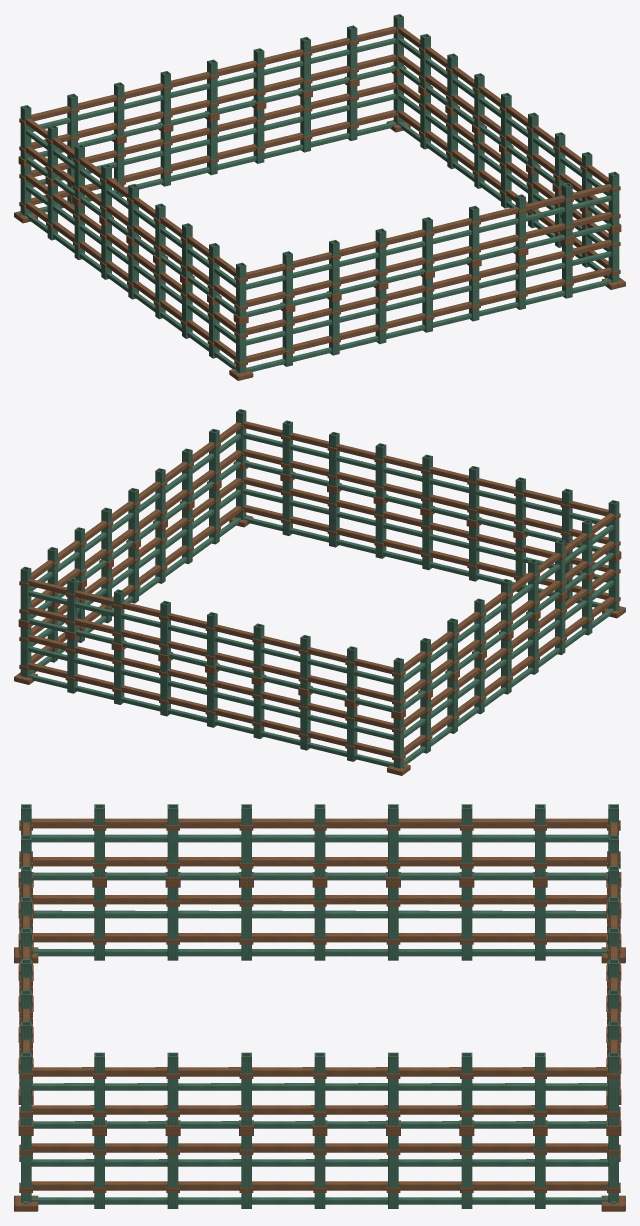
3 views of the same model, one above another, from view 1: azimuth 30°, elevation 25°; view 2: azimuth 150°, elevation 25°; view 3: azimuth 270°, elevation 25° (orthographic). The views are drawn at different scales.
Visible parts, largest first — view 1: Tier 1 side 1 post 0, Tier 1 side 0 post 3, Tier 1 side 0 post 0, Tier 1 side 2 post 3, Tier 0 side 0 post 3, Tier 0 side 2 post 3; view 2: Tier 1 side 2 post 0, Tier 1 side 2 post 5, Tier 1 side 0 post 5, Tier 1 side 3 post 0, Tier 0 side 2 post 5, Tier 0 side 0 post 5; view 3: Tier 0 side 3 post 2, Tier 0 side 3 post 4, Tier 0 side 3 post 6, Tier 1 side 3 post 2, Tier 1 side 3 post 4, Tier 1 side 3 post 6, Tier 1 side 1 post 2, Tier 1 side 1 post 4, Tier 1 side 1 post 6, Tier 0 side 1 post 2, Tier 0 side 1 post 4, Tier 0 side 1 post 6 (+92 smaller).
Part boxes in pixels (<box>): Tier 1 side 1 post 0: <box>608,171,619,226</box>; Tier 1 side 0 post 3: <box>375,228,386,283</box>; Tier 1 side 0 post 0: <box>236,262,246,317</box>; Tier 1 side 2 post 3: <box>253,48,264,102</box>; Tier 0 side 0 post 3: <box>375,289,386,344</box>; Tier 0 side 2 post 3: <box>253,108,264,163</box>; Tier 1 side 2 post 0: <box>20,566,31,621</box>; Tier 1 side 2 post 5: <box>253,623,264,678</box>; Tier 1 side 0 post 5: <box>375,443,386,497</box>; Tier 1 side 3 post 0: <box>393,657,403,712</box>; Tier 0 side 2 post 5: <box>253,684,264,738</box>; Tier 0 side 0 post 5: <box>375,503,386,558</box>; Tier 0 side 3 post 2: <box>461,887,472,960</box>; Tier 0 side 3 post 4: <box>314,887,325,960</box>; Tier 0 side 3 post 6: <box>167,887,178,960</box>; Tier 1 side 3 post 2: <box>461,804,472,877</box>; Tier 1 side 3 post 4: <box>314,804,325,877</box>; Tier 1 side 3 post 6: <box>167,804,178,877</box>; Tier 1 side 1 post 2: <box>167,1052,178,1125</box>; Tier 1 side 1 post 4: <box>314,1052,325,1125</box>; Tier 1 side 1 post 6: <box>461,1052,472,1125</box>; Tier 0 side 1 post 2: <box>167,1136,178,1208</box>; Tier 0 side 1 post 4: <box>314,1136,325,1208</box>; Tier 0 side 1 post 6: <box>461,1136,472,1208</box>.
Size of the model in its own units: 3.75 by 1.03 by 3.75.
2 materials, 2 textured.
